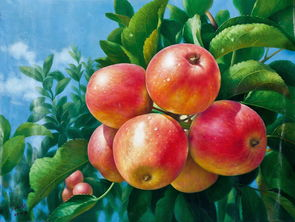apple: (111, 112, 190, 192), (191, 100, 271, 177), (145, 43, 222, 116)
obscured(1)_apple: (85, 63, 150, 128)
